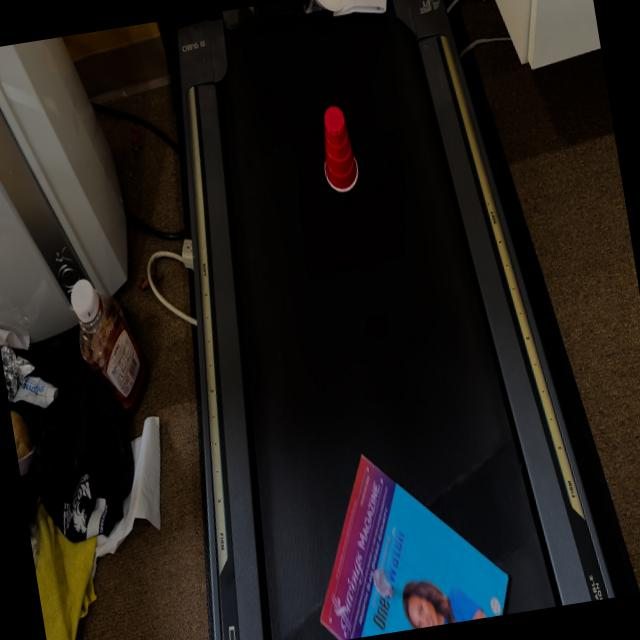Recycle: (288, 429, 507, 640), (308, 98, 373, 204)
